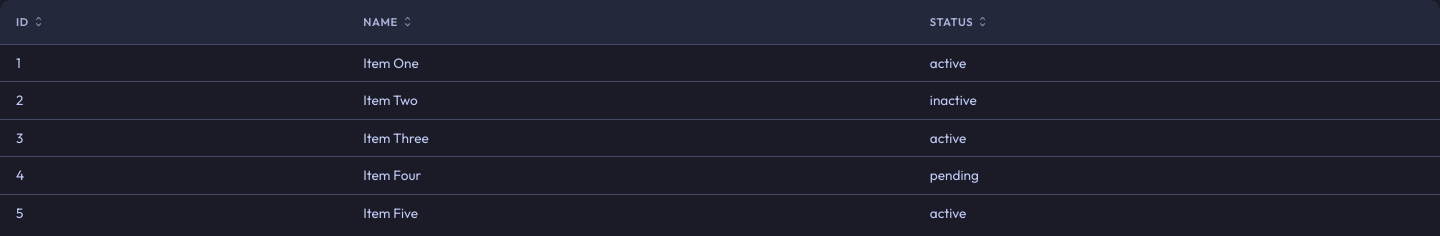
Test: DataTable › sorting › sorts data when clicking header
Click the button with aria-label "sort by name" at (388, 22), box [363,15,413,29]
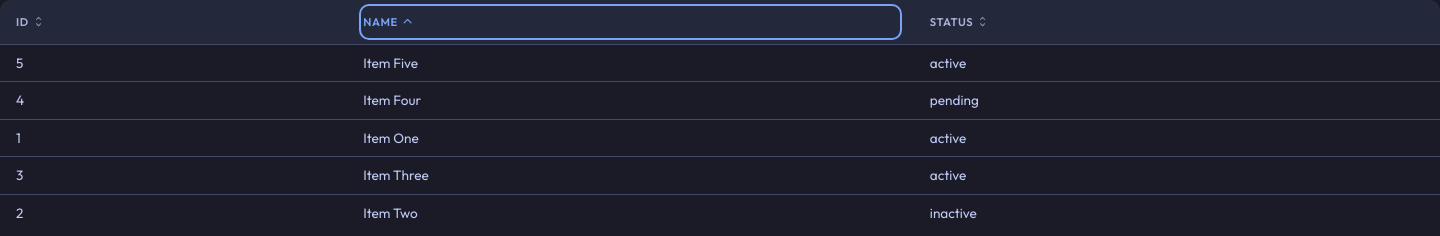
expect the column heading with class "data-table__header-cell--sorted" is shown: met, box [347,0,914,44]
